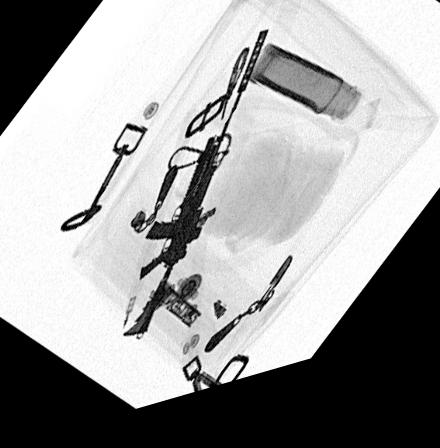Gun: (119, 41, 270, 344)
